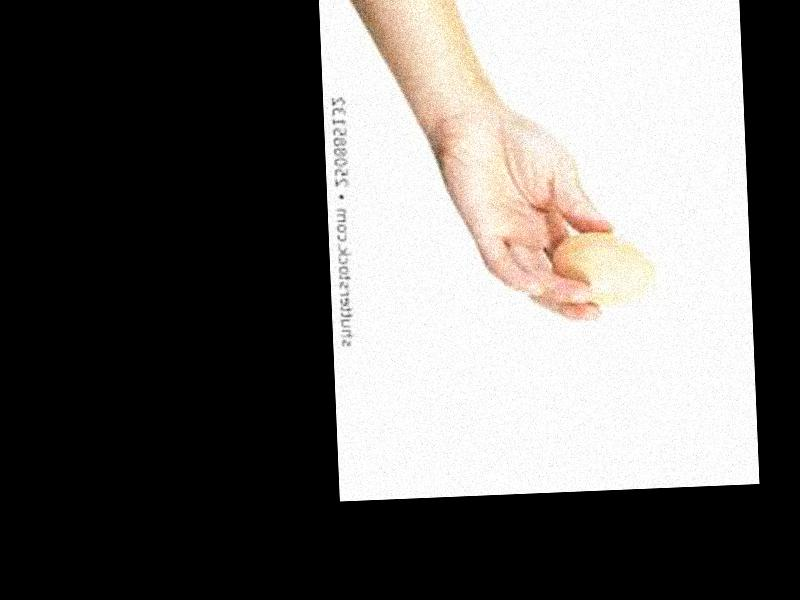Eggs: (547, 229, 658, 308)
